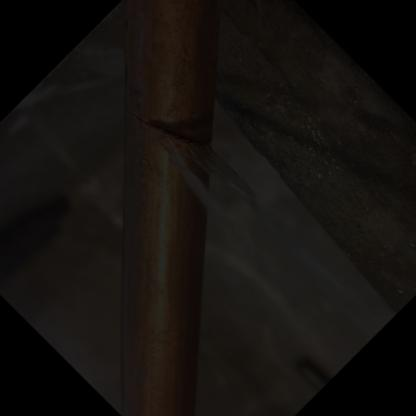burst: (138, 124, 217, 210)
